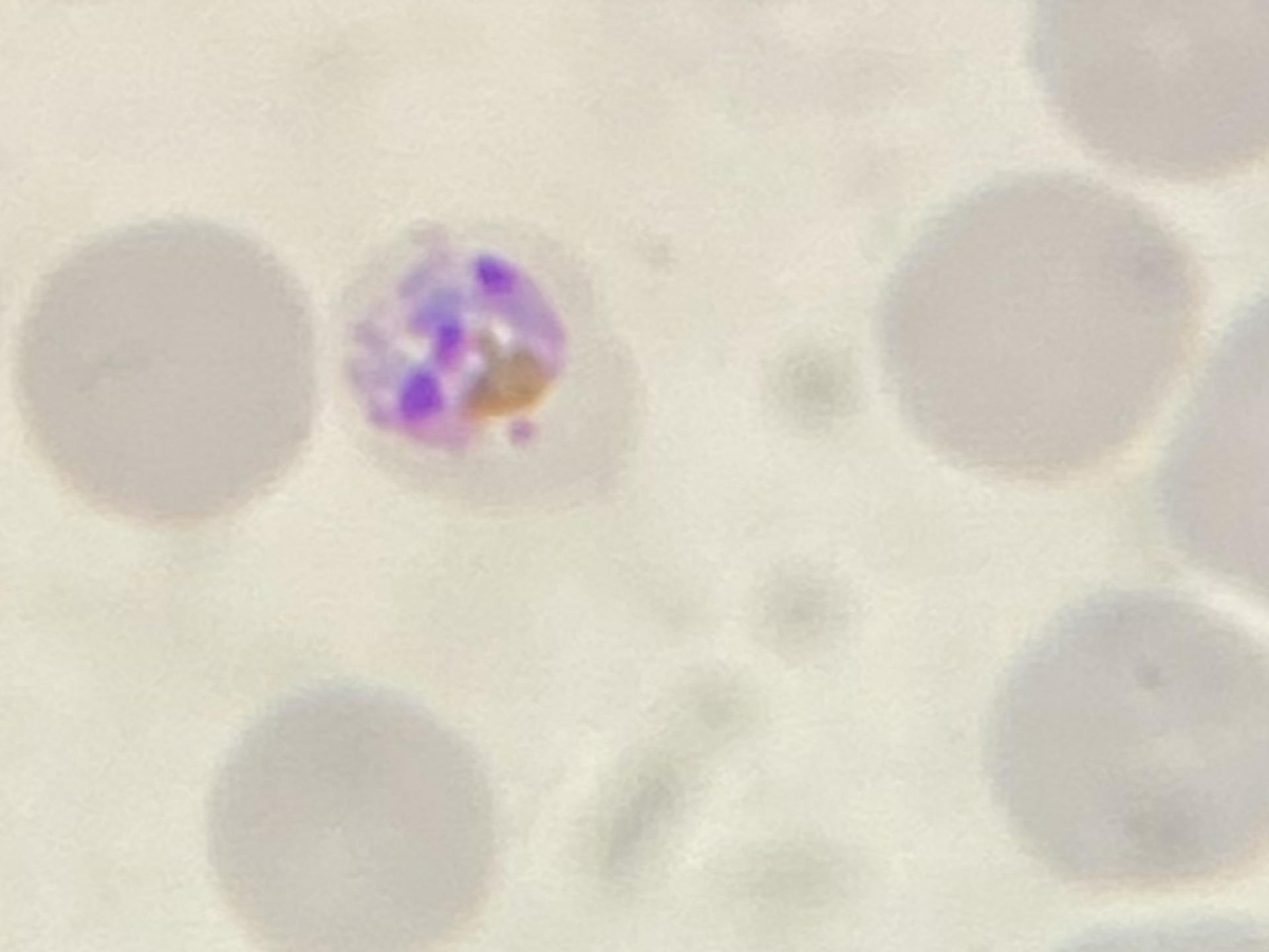Infected: (335, 214, 636, 510)
Uninfected: (872, 168, 1204, 480), (20, 214, 319, 539), (994, 591, 1269, 892), (207, 686, 501, 952)
